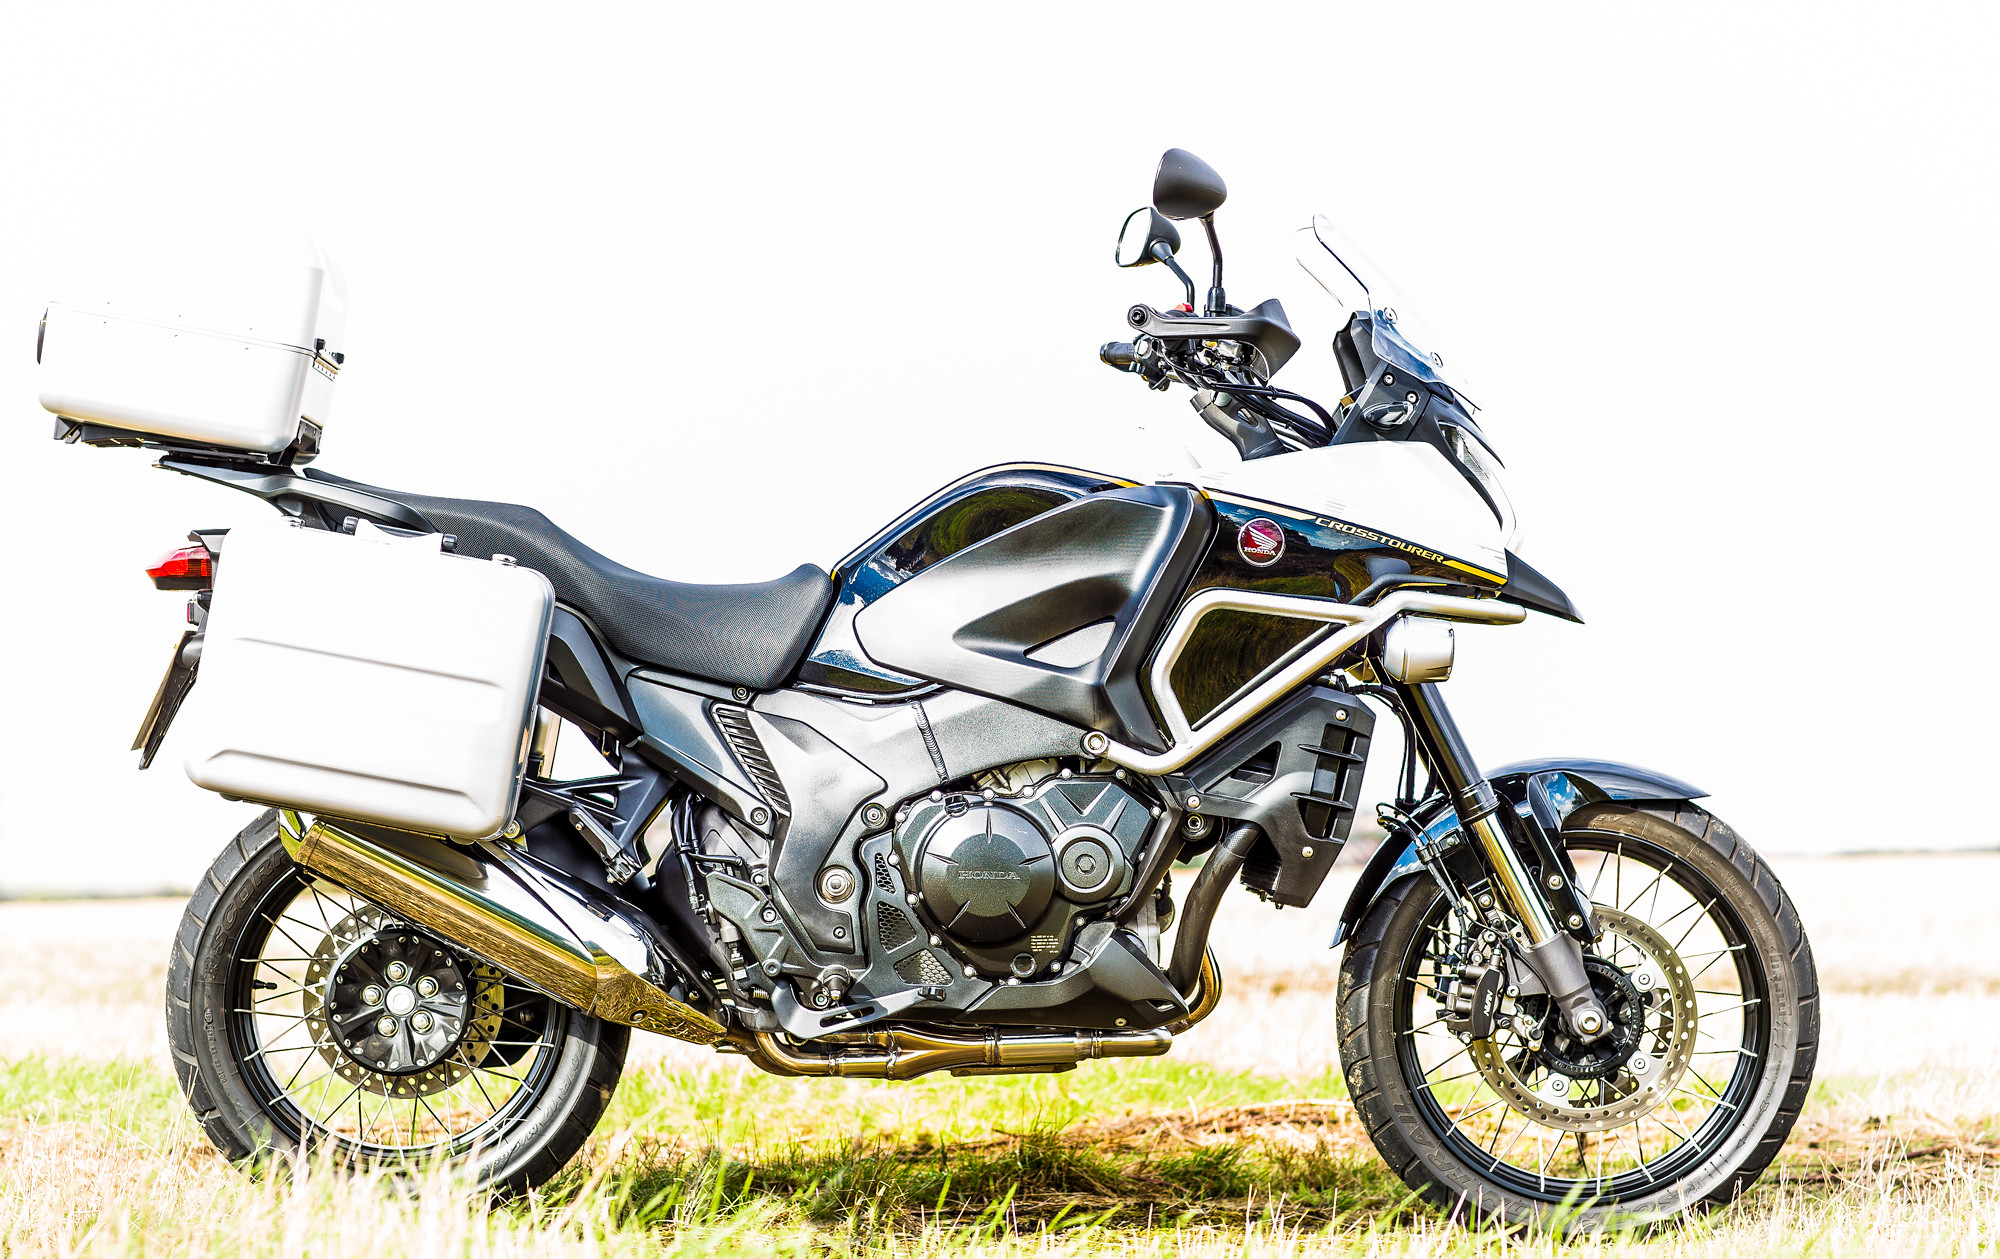motor bike: (44, 173, 1819, 1221)
